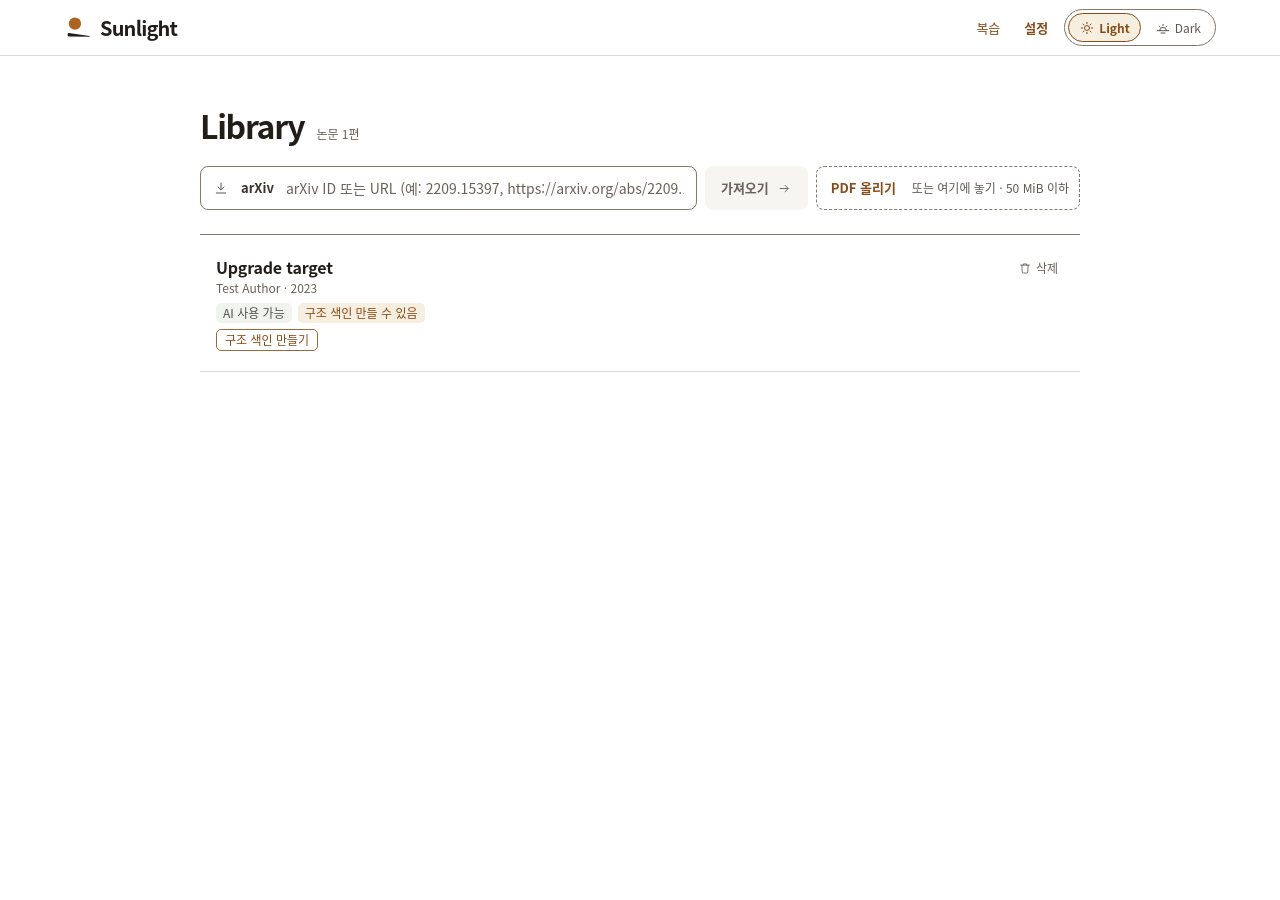
Test case: upgrade flow › a lost progress stream (no terminal event, job still running) → the button subscribes to the same job again
The width and height of the screenshot is (1280, 900).
Click the button with test id "rd-upgrade-button". click: {"x": 267, "y": 340}
box: [216,329,318,351]
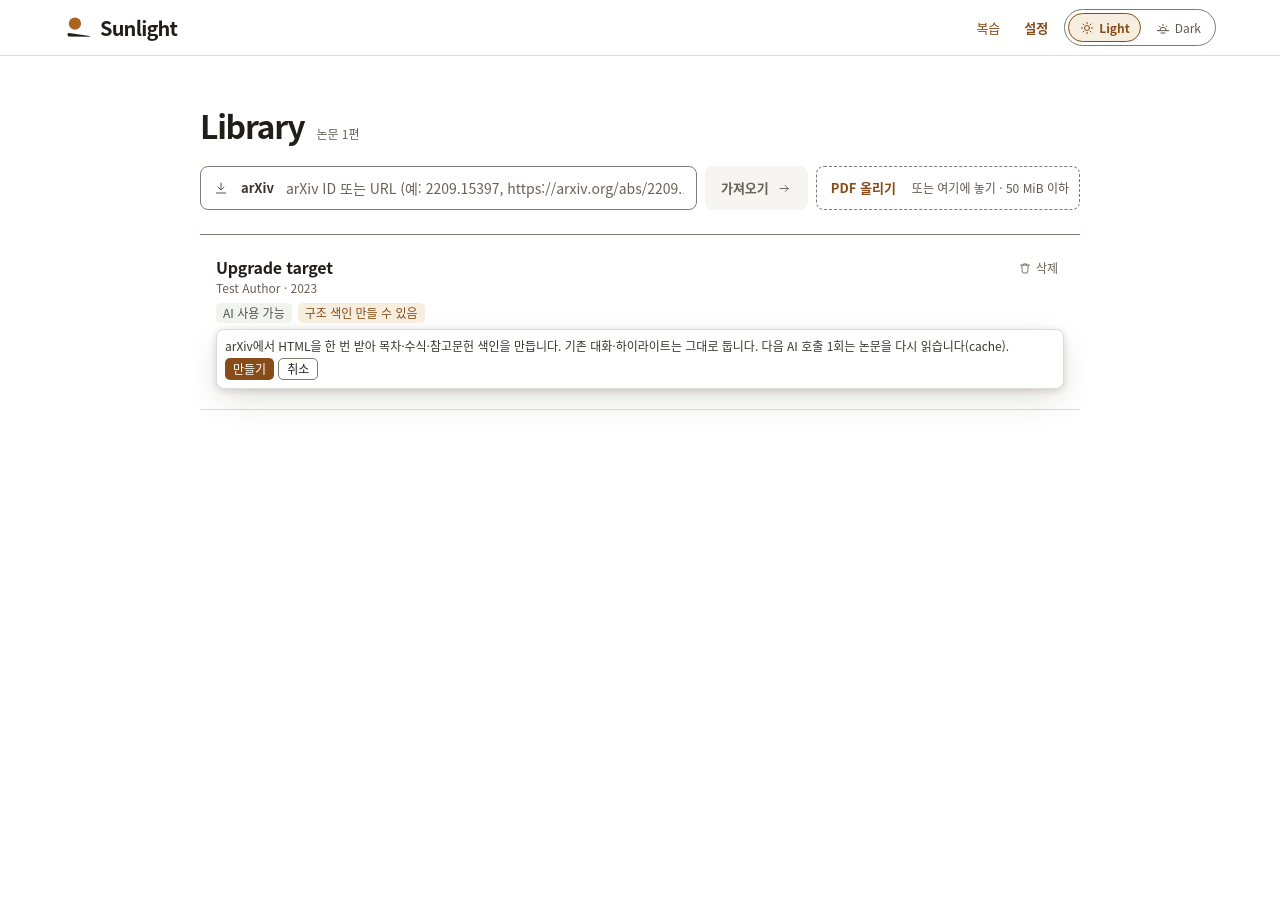
Click the button with test id "rd-upgrade-confirm-yes". click: {"x": 250, "y": 369}
box: [225,358,274,380]
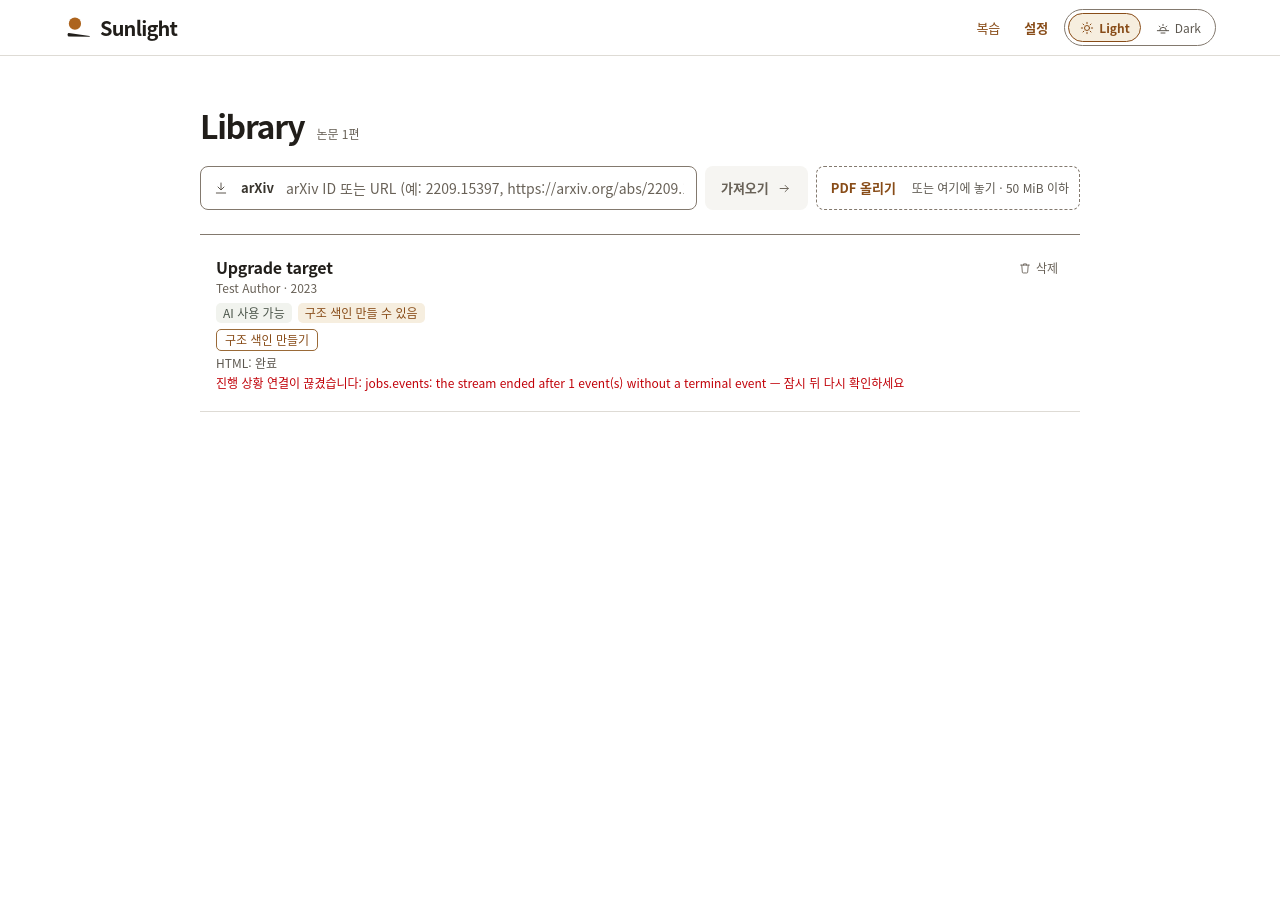
Click the button with test id "rd-upgrade-button". click: {"x": 267, "y": 340}
box: [216,329,318,351]
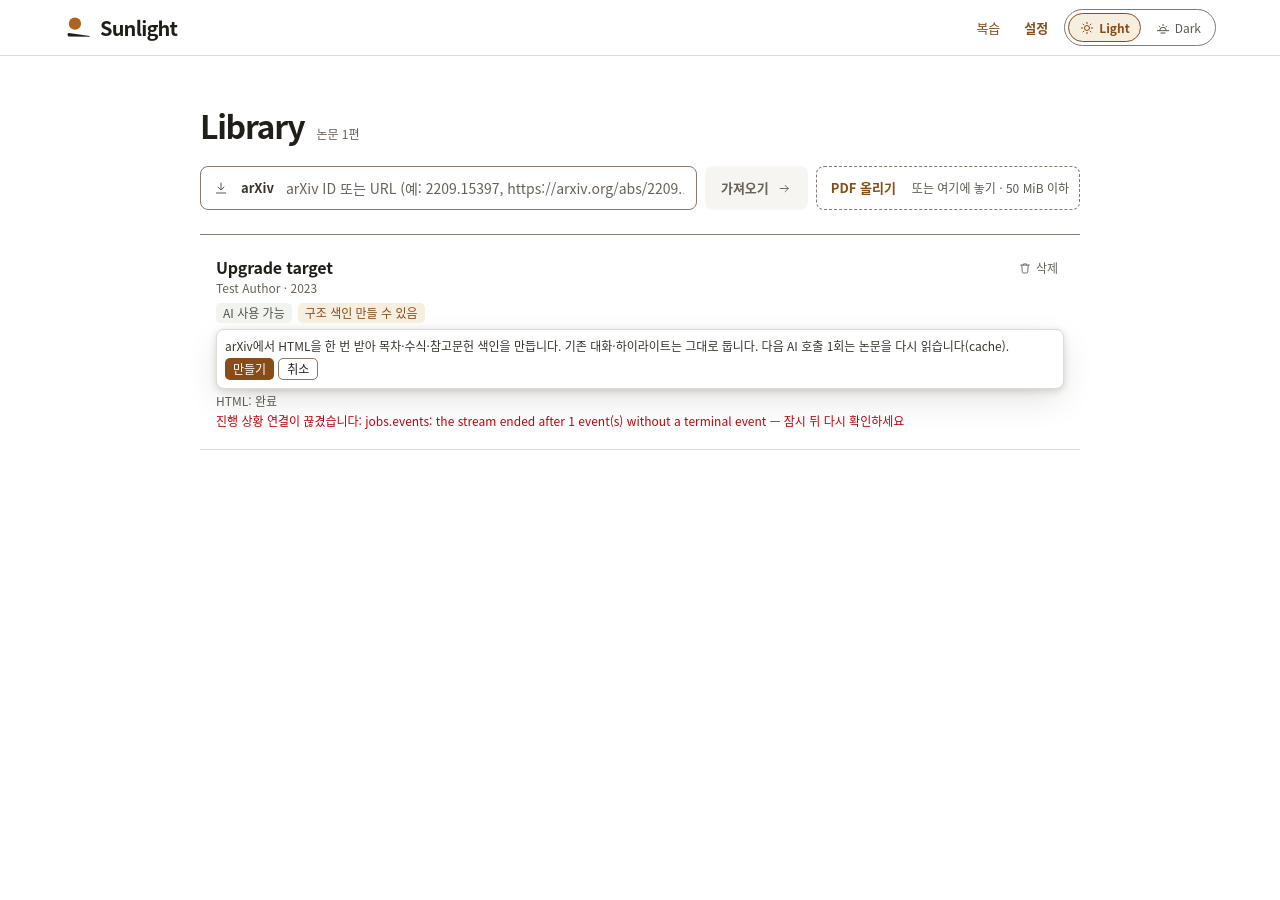
Click the button with test id "rd-upgrade-confirm-yes". click: {"x": 250, "y": 369}
box: [225,358,274,380]
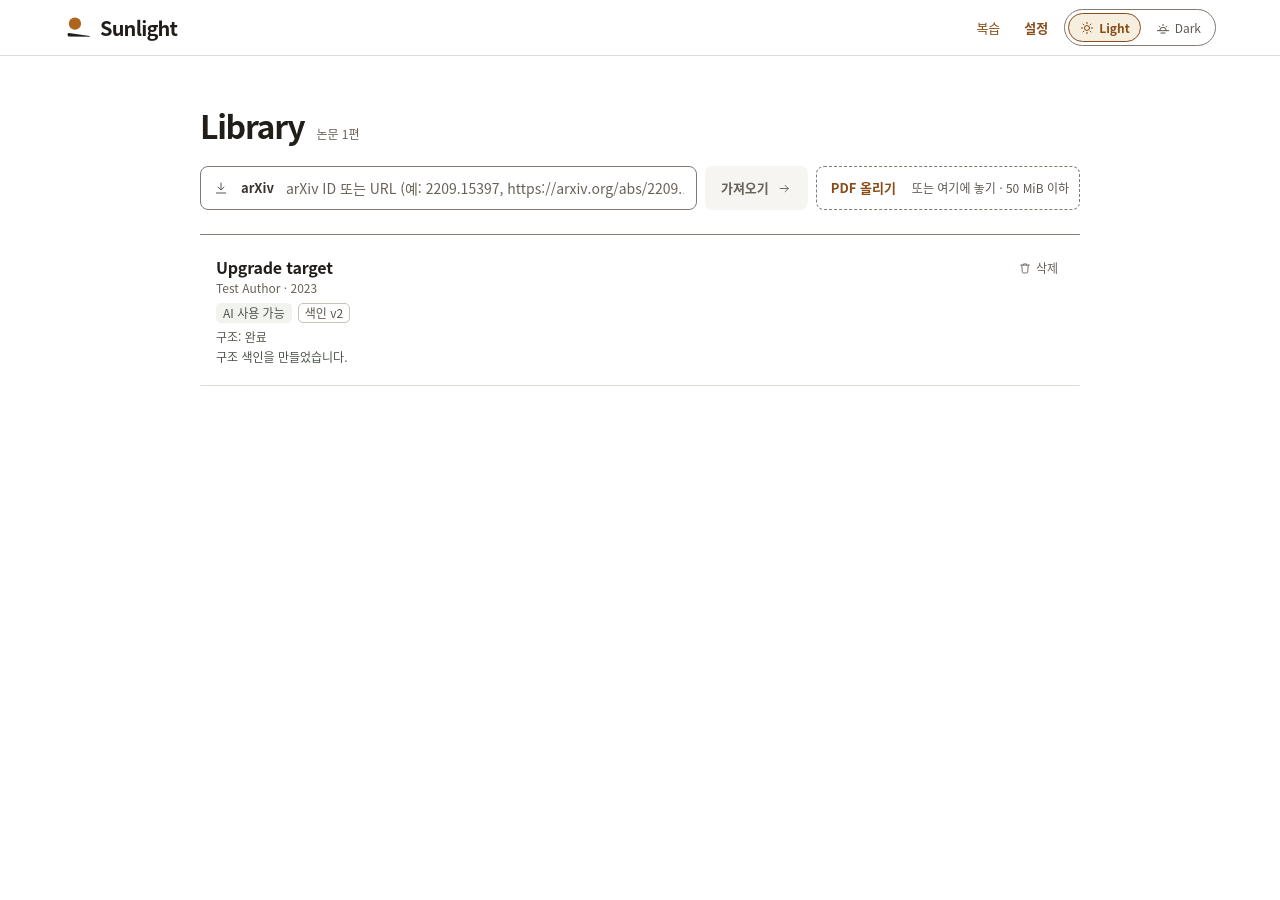
Now the text "구조 색인을 만들었습니다." is shown, box [216,348,348,365]
Now the message with test id "rd-upgrade-error" is gone
